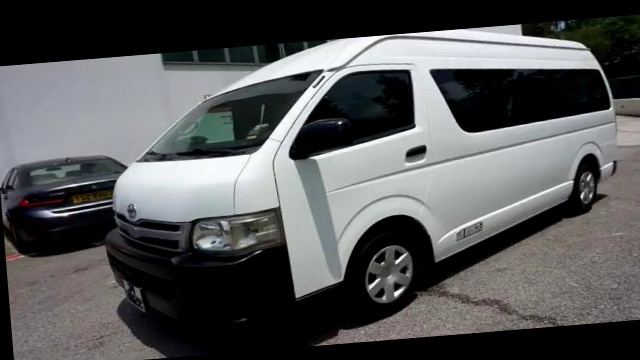van: (88, 17, 631, 342)
